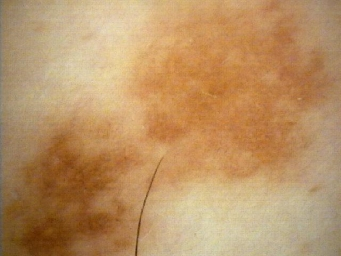seborrheic keratosis: (135, 5, 334, 186), (6, 128, 152, 256)
